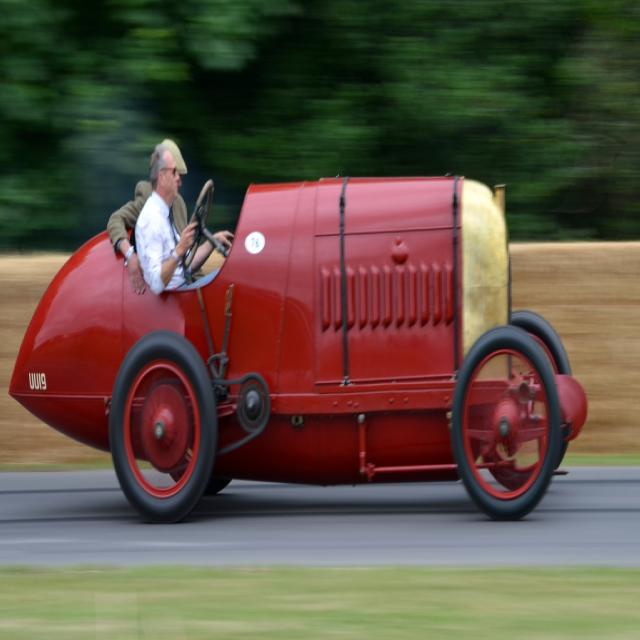car: (4, 163, 588, 527)
